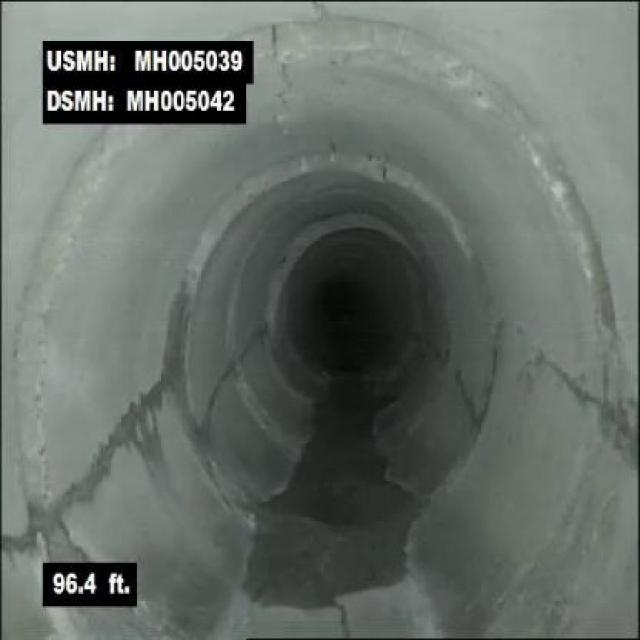Crack: (68, 352, 175, 512), (505, 305, 597, 423), (263, 24, 302, 144)
Joint offset: (358, 17, 531, 121), (17, 146, 108, 312), (548, 148, 617, 300), (208, 165, 277, 229), (400, 163, 469, 222)
